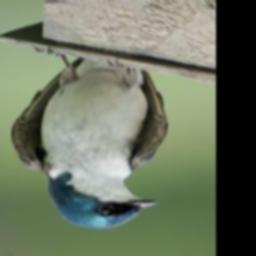Swallow: (11, 44, 171, 231)
